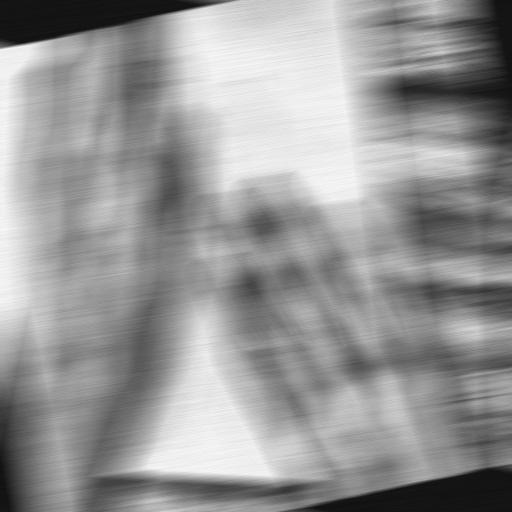bottom_right: (411, 470, 436, 480)
eiffel-tower: (0, 0, 350, 413)
